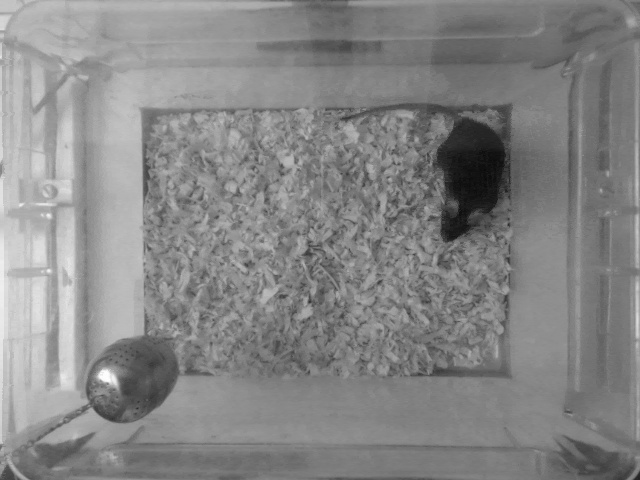mice: (344, 101, 507, 245)
